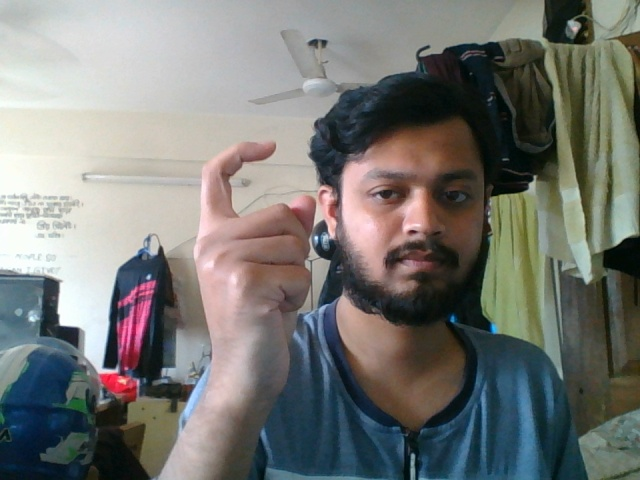e: (185, 134, 324, 461)
